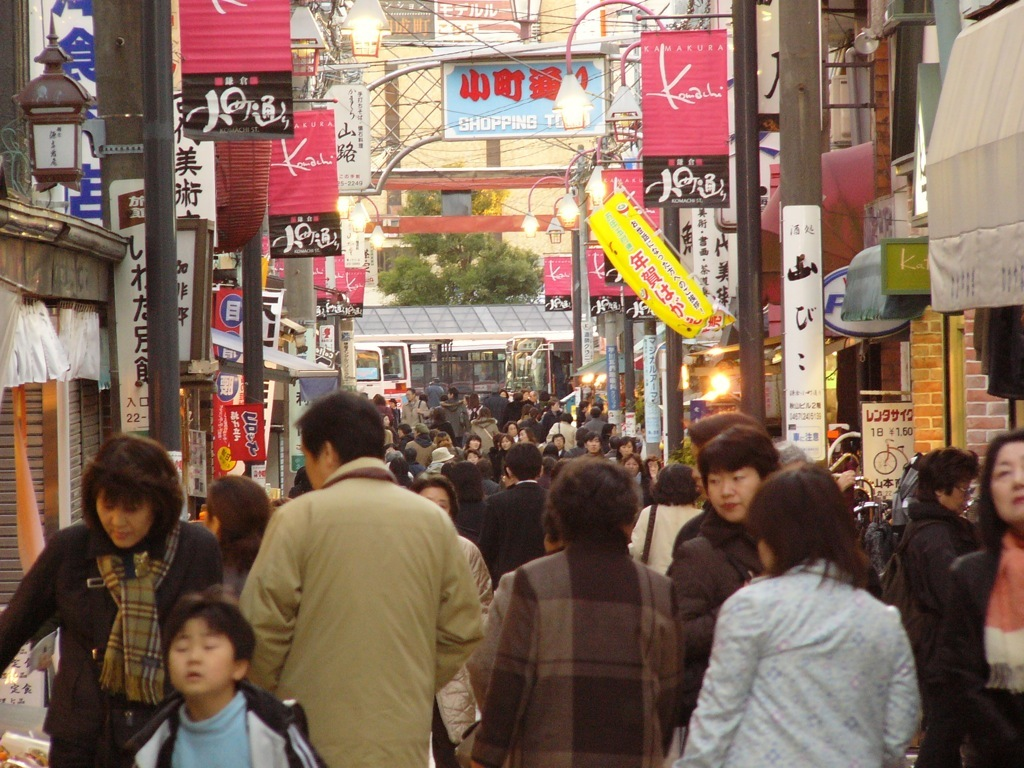Human-face: (166, 621, 234, 697), (708, 462, 760, 524), (97, 486, 148, 547), (991, 442, 1023, 531)
